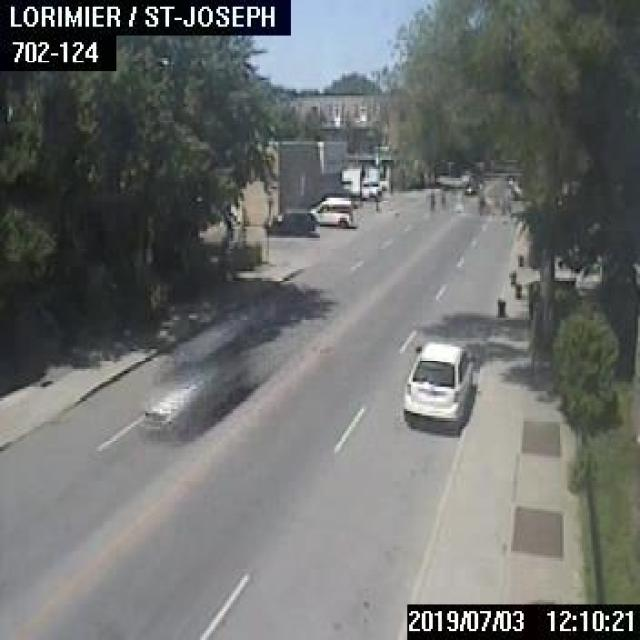pedestrian: (426, 188, 434, 210), (477, 191, 483, 213), (439, 188, 444, 206)
vehicle: (137, 326, 248, 438), (401, 342, 472, 431), (262, 207, 316, 235), (307, 194, 350, 227), (340, 166, 380, 199), (509, 176, 522, 197), (462, 181, 478, 193)
